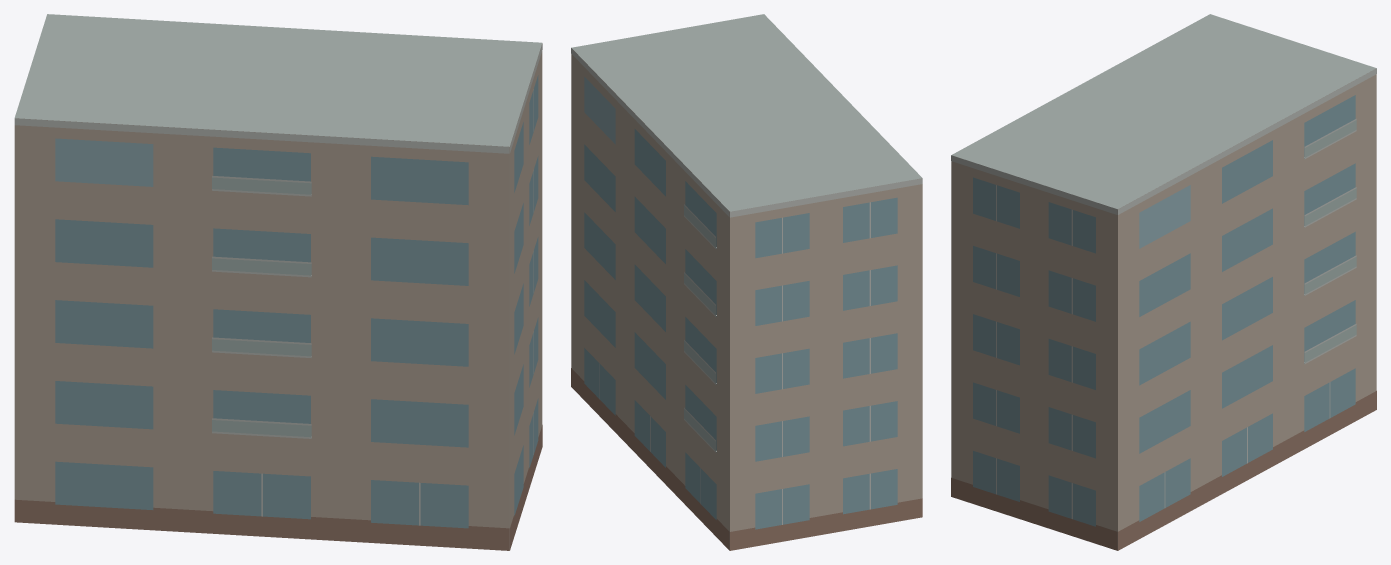
File: survey-upis-32657196.glb
The picture shows the model from 3 angles, left to right: view 1: azimuth 30°, elevation 25°; view 2: azimuth 150°, elevation 25°; view 3: azimuth 270°, elevation 25°; orthographic projection. The views are drawn at different scales.
Parts seen in each view (by area): view 1: survey-upis-32657196.tmp; view 2: survey-upis-32657196.tmp; view 3: survey-upis-32657196.tmp.
Boxes of the visible parts, left/top/right/bottom form: survey-upis-32657196.tmp: left=14, top=14, right=542, bottom=550; survey-upis-32657196.tmp: left=571, top=14, right=922, bottom=550; survey-upis-32657196.tmp: left=951, top=14, right=1376, bottom=550.
Size of the model in its own units: 17.3 by 14.1 by 15.93.
